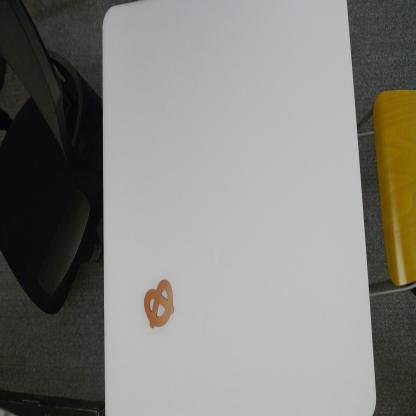Pretzel: (143, 276, 177, 331)
